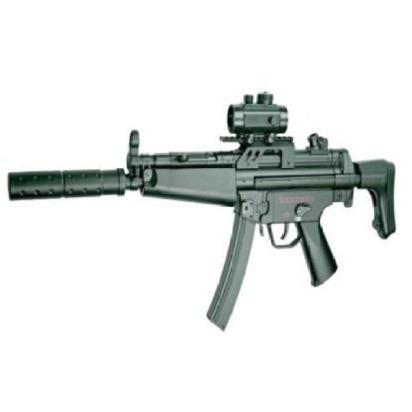Gun: (0, 95, 399, 323)
